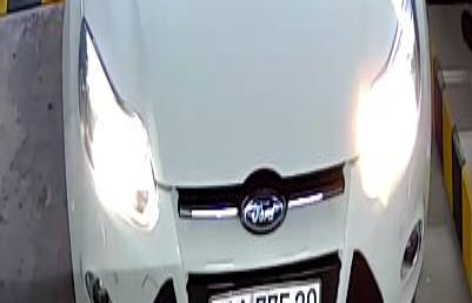plate: (209, 279, 321, 303)
